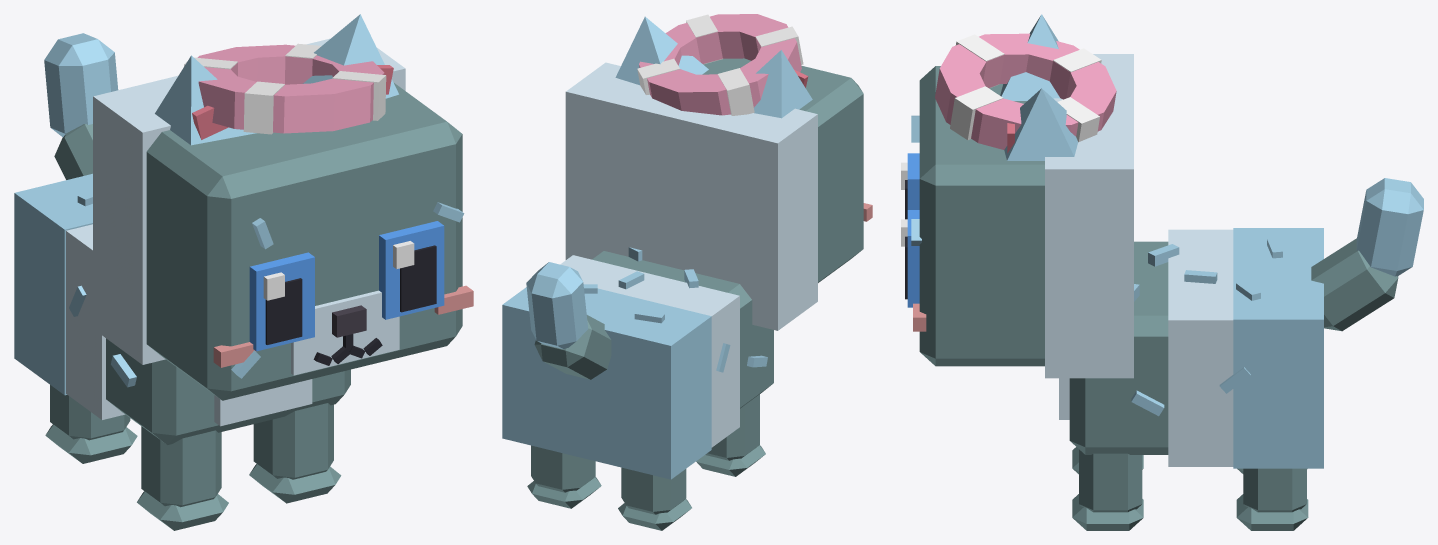
File: CatCafe_Cat_Splash.glb
3 renders of one model, left to right at view 1: azimuth 30°, elevation 25°; view 2: azimuth 150°, elevation 25°; view 3: azimuth 270°, elevation 25°, orthographic. The views are drawn at different scales.
Parts seen in each view (by area): view 1: CatCafe_Cat_Splash_Head, CatCafe_Cat_Splash_Body, CatCafe_Cat_Splash_Prop, CatCafe_Cat_Splash_LegF2, CatCafe_Cat_Splash_Tail, CatCafe_Cat_Splash_LegF1, CatCafe_Cat_Splash_Eye2, CatCafe_Cat_Splash_Eye1, CatCafe_Cat_Splash_LegB2, CatCafe_Cat_Splash_EarR, CatCafe_Cat_Splash_EarL; view 2: CatCafe_Cat_Splash_Head, CatCafe_Cat_Splash_Body, CatCafe_Cat_Splash_Prop, CatCafe_Cat_Splash_Tail, CatCafe_Cat_Splash_LegB2, CatCafe_Cat_Splash_LegB1, CatCafe_Cat_Splash_LegF2, CatCafe_Cat_Splash_EarR, CatCafe_Cat_Splash_EarL; view 3: CatCafe_Cat_Splash_Head, CatCafe_Cat_Splash_Body, CatCafe_Cat_Splash_Prop, CatCafe_Cat_Splash_Tail, CatCafe_Cat_Splash_LegF1, CatCafe_Cat_Splash_LegB1, CatCafe_Cat_Splash_EarL, CatCafe_Cat_Splash_EarR, CatCafe_Cat_Splash_Eye1, CatCafe_Cat_Splash_Eye2.
Part boxes in pixels (<box>): CatCafe_Cat_Splash_Head: <box>93,38,473,400</box>; CatCafe_Cat_Splash_Body: <box>14,173,350,444</box>; CatCafe_Cat_Splash_Prop: <box>184,43,386,134</box>; CatCafe_Cat_Splash_LegF2: <box>137,426,228,530</box>; CatCafe_Cat_Splash_Tail: <box>44,33,118,179</box>; CatCafe_Cat_Splash_LegF1: <box>249,403,341,503</box>; CatCafe_Cat_Splash_Eye2: <box>249,252,314,351</box>; CatCafe_Cat_Splash_Eye1: <box>379,221,444,319</box>; CatCafe_Cat_Splash_LegB2: <box>45,385,137,463</box>; CatCafe_Cat_Splash_EarR: <box>155,55,256,145</box>; CatCafe_Cat_Splash_EarL: <box>303,14,398,98</box>; CatCafe_Cat_Splash_Head: <box>565,58,872,330</box>; CatCafe_Cat_Splash_Body: <box>502,247,773,479</box>; CatCafe_Cat_Splash_Prop: <box>637,14,803,115</box>; CatCafe_Cat_Splash_Tail: <box>526,262,611,379</box>; CatCafe_Cat_Splash_LegB2: <box>618,467,691,530</box>; CatCafe_Cat_Splash_LegB1: <box>527,445,601,508</box>; CatCafe_Cat_Splash_LegF2: <box>696,394,765,476</box>; CatCafe_Cat_Splash_EarR: <box>754,50,812,118</box>; CatCafe_Cat_Splash_EarL: <box>615,16,708,85</box>; CatCafe_Cat_Splash_Head: <box>911,54,1133,378</box>; CatCafe_Cat_Splash_Body: <box>1059,228,1323,468</box>; CatCafe_Cat_Splash_Prop: <box>935,33,1116,149</box>; CatCafe_Cat_Splash_Tail: <box>1311,178,1423,331</box>; CatCafe_Cat_Splash_LegF1: <box>1072,449,1143,530</box>; CatCafe_Cat_Splash_LegB1: <box>1236,468,1308,530</box>; CatCafe_Cat_Splash_EarL: <box>1004,88,1078,160</box>; CatCafe_Cat_Splash_EarR: <box>1000,14,1059,100</box>; CatCafe_Cat_Splash_Eye1: <box>901,210,919,307</box>; CatCafe_Cat_Splash_Eye2: <box>901,153,919,219</box>.
Size of the model in its own units: 1.03 by 1.86 by 1.97.
Materials: 1 (1 with a texture image).
